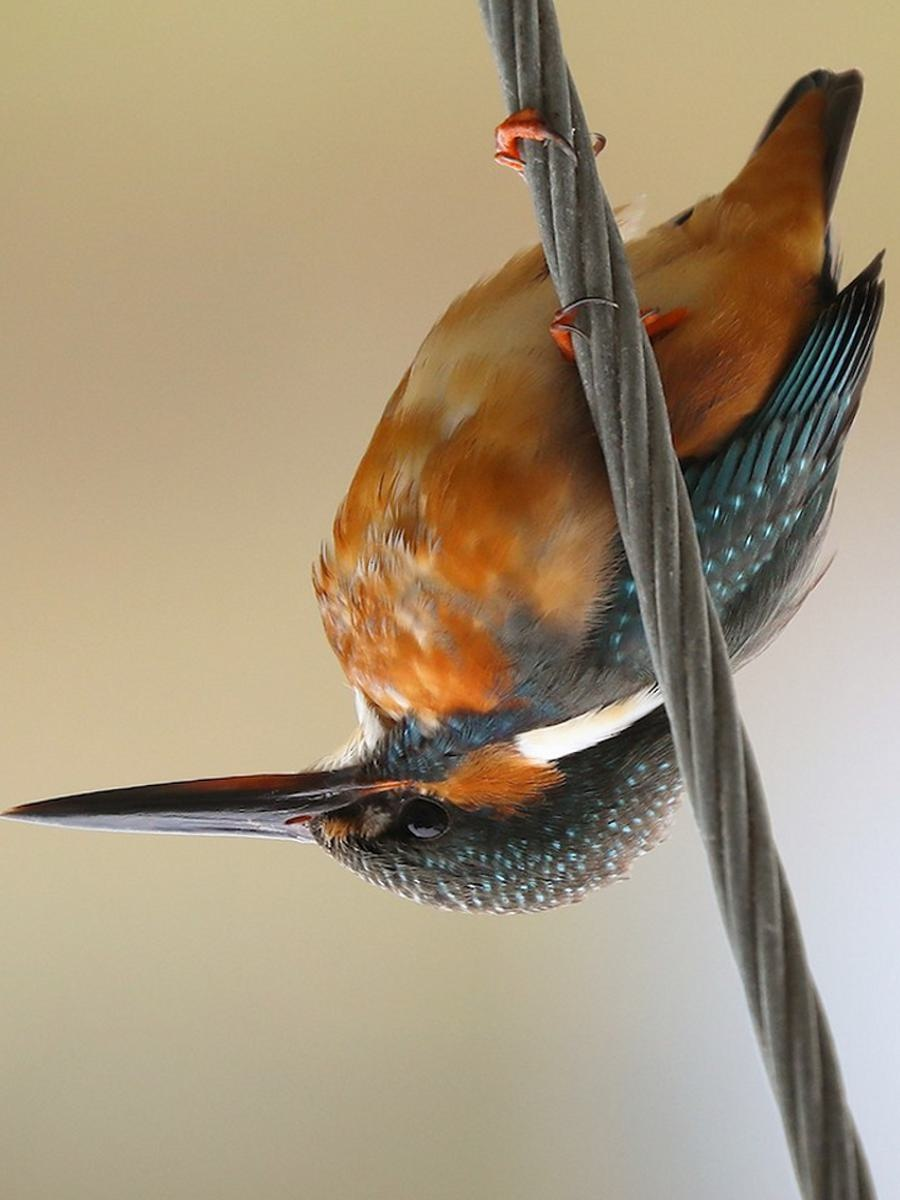kingfisher: (10, 67, 900, 888)
